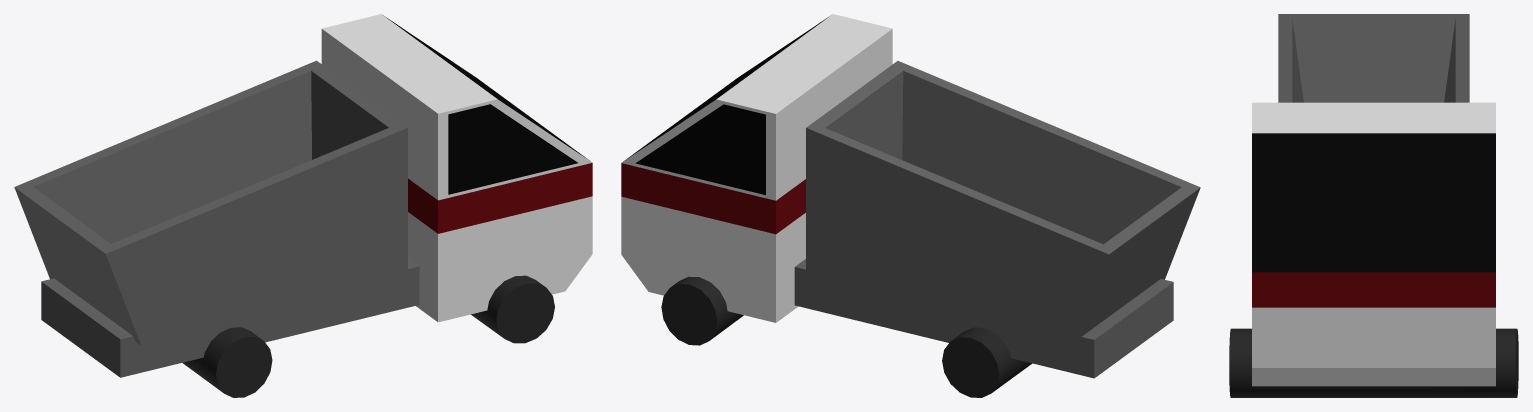
Rendered from SM_Truck.glb.
The picture shows the model from 3 angles, left to right: view 1: azimuth 30°, elevation 25°; view 2: azimuth 150°, elevation 25°; view 3: azimuth 270°, elevation 25°; orthographic projection. The views are drawn at different scales.
Parts seen in each view (by area): view 1: SM_Truck; view 2: SM_Truck; view 3: SM_Truck.
Part boxes in pixels (bbox=[...]): SM_Truck: bbox=[14, 14, 592, 397]; SM_Truck: bbox=[621, 14, 1200, 397]; SM_Truck: bbox=[1229, 14, 1518, 397].
Size of the model in its own units: 0.9643 by 0.4691 by 0.4869.
